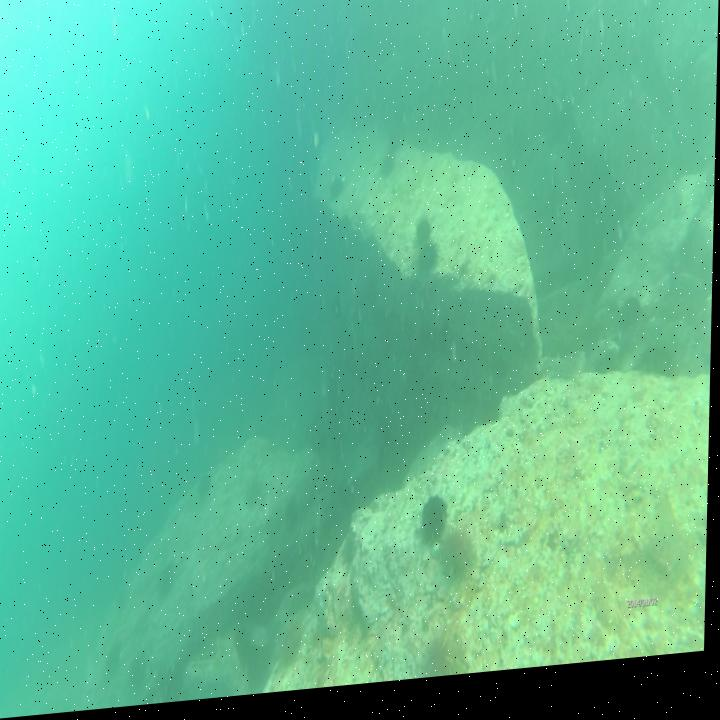echinus: (428, 638, 472, 687), (441, 541, 479, 591), (641, 355, 674, 398), (422, 502, 452, 548), (281, 622, 304, 675), (594, 360, 626, 390), (621, 303, 646, 337), (416, 253, 441, 283), (245, 480, 267, 510), (107, 641, 127, 673), (130, 663, 150, 691), (159, 572, 178, 601), (199, 475, 216, 501), (414, 228, 433, 250), (329, 185, 342, 210), (381, 165, 394, 186), (389, 136, 402, 155)
